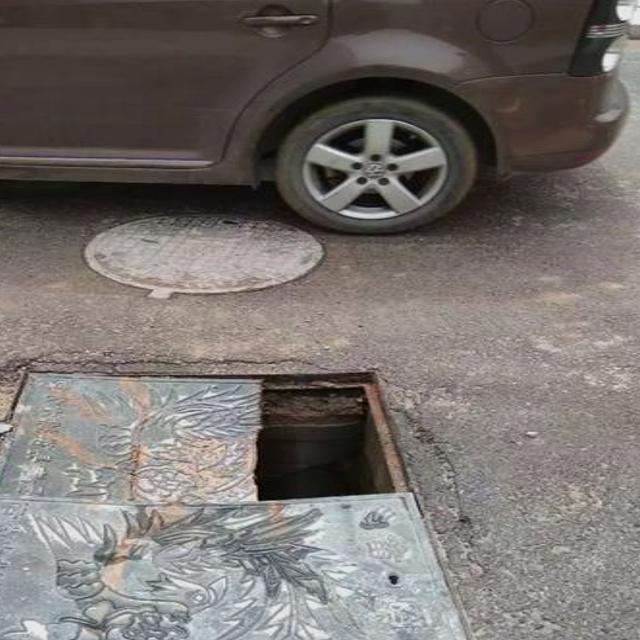lose: (0, 340, 509, 640)
